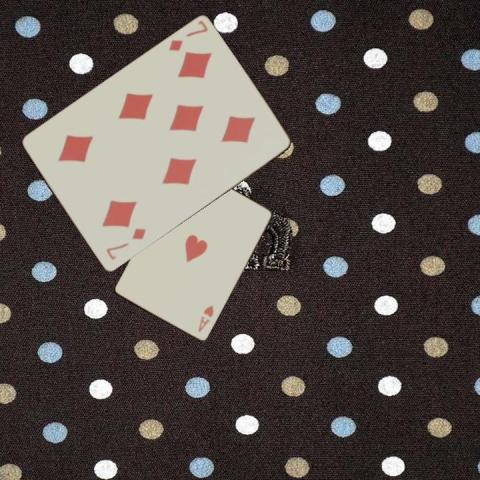7d: (103, 225, 148, 262), (166, 18, 210, 53)
Ah: (196, 302, 215, 333)
